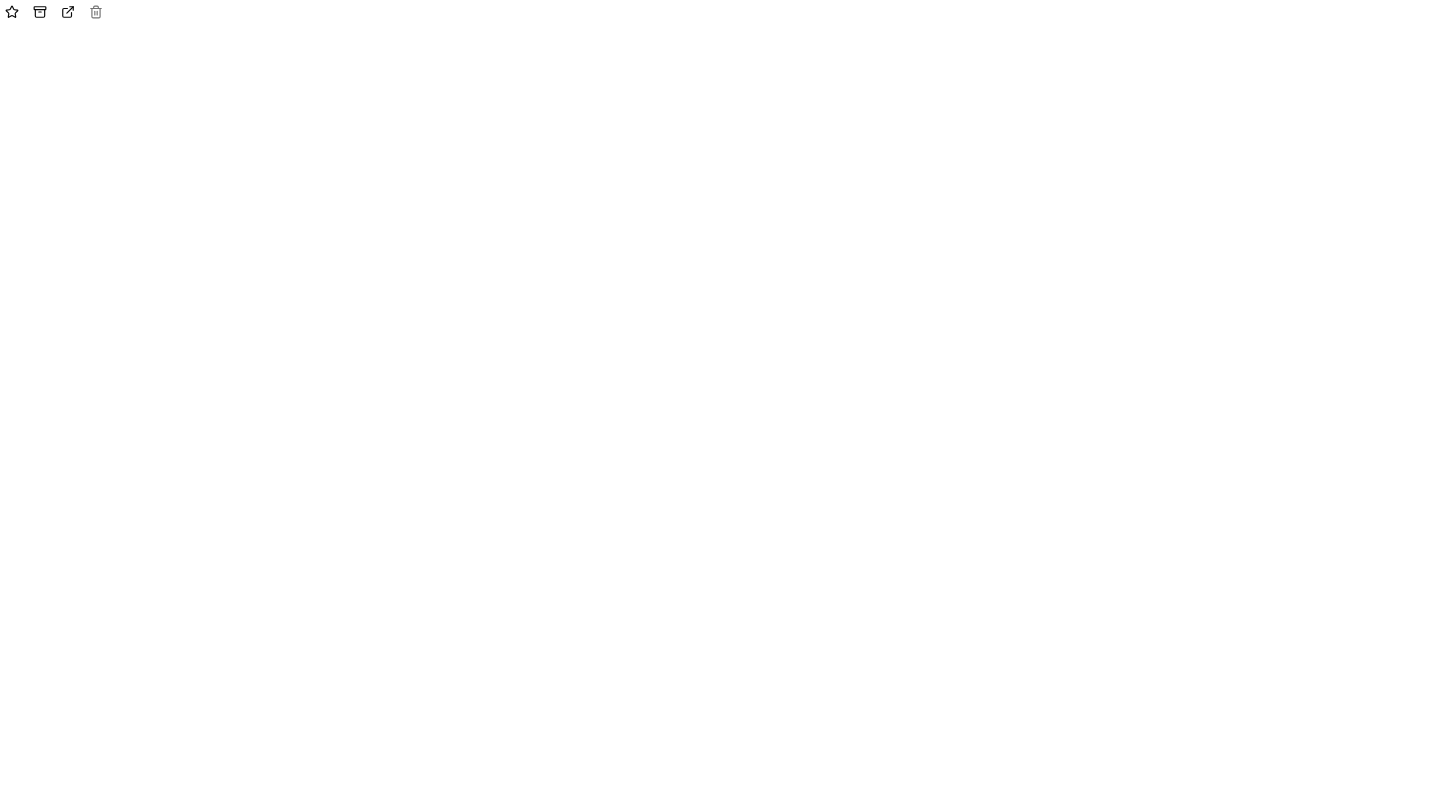
it: BookmarkActions › opens confirm dialog when trash clicked
The width and height of the screenshot is (1440, 810).
Click the button named "Delete item" at {"x": 96, "y": 12}, box [84,0,108,24]
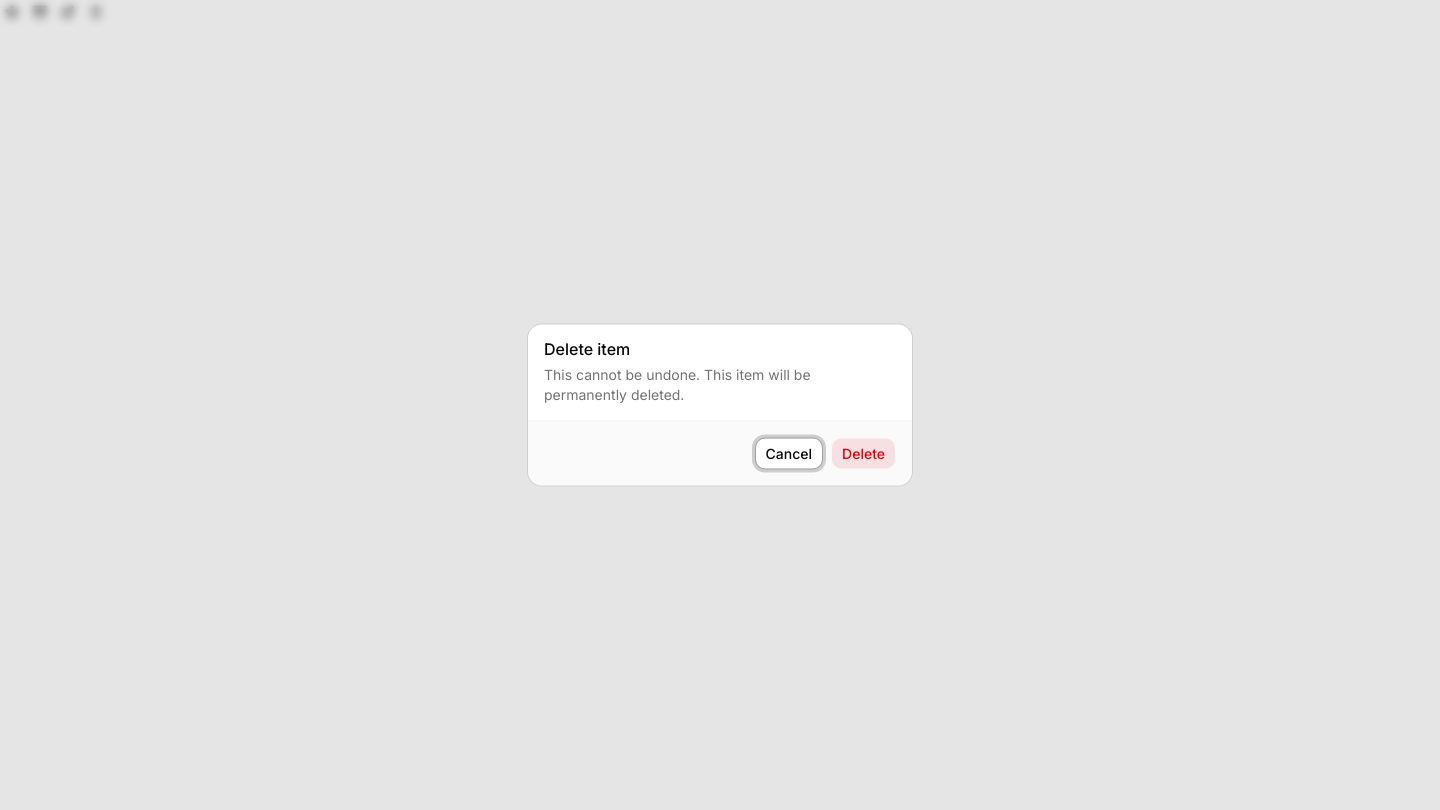
Result: the text "This cannot be undone" is shown at [544,366,811,402]
